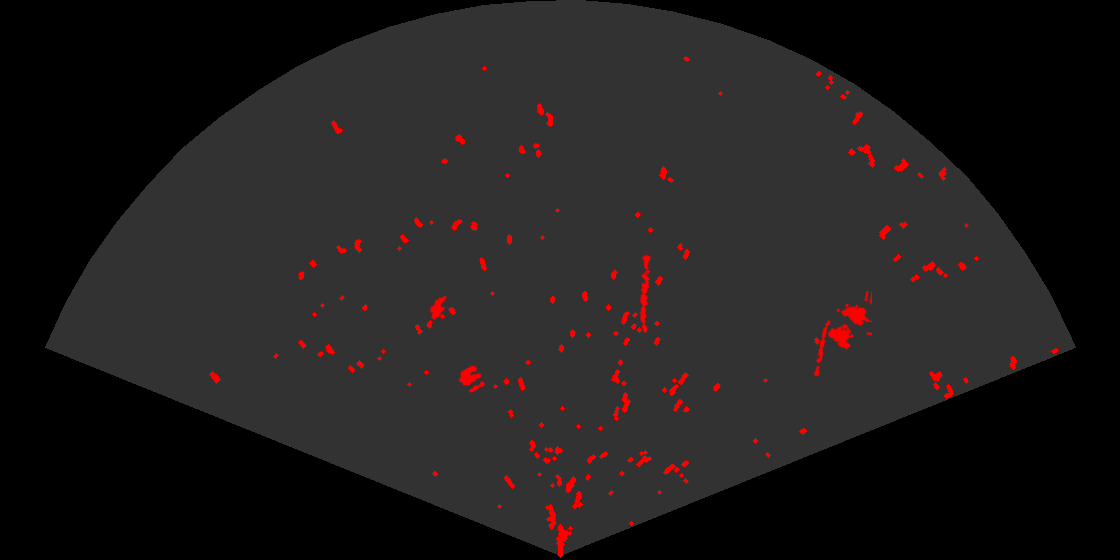AUV: (423, 290, 448, 322)
ball: (457, 364, 487, 394)
cage: (826, 291, 872, 352)
chain: (812, 318, 832, 377), (638, 252, 652, 333)
